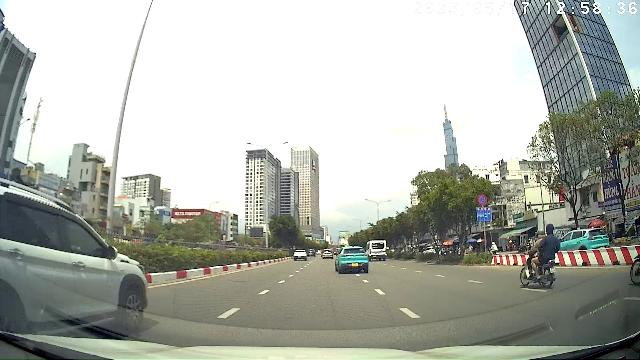130-cam-dung-va-do-xe: (477, 195, 488, 206)
